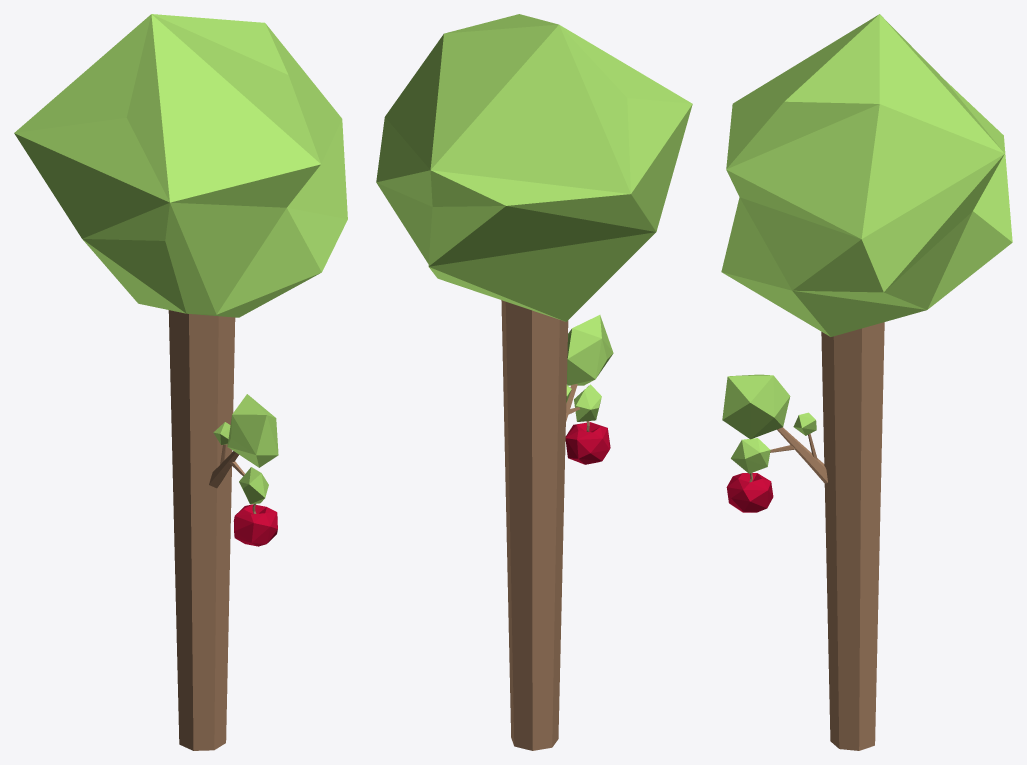
Rendered from tree.fbx.
3 renders of one model, left to right at view 1: azimuth 30°, elevation 25°; view 2: azimuth 150°, elevation 25°; view 3: azimuth 270°, elevation 25°, orthographic. The views are drawn at different scales.
Parts seen in each view (by area): view 1: LeafColor-material.003, BaseColor-material.009, LeafColor-material.004, Material_002-material; view 2: LeafColor-material.003, BaseColor-material.009, LeafColor-material.004, Material_002-material; view 3: LeafColor-material.003, BaseColor-material.009, LeafColor-material.004, Material_002-material.
Part boxes in pixels (left/top/right/bottom): LeafColor-material.003: left=14, top=14, right=347, bottom=317; BaseColor-material.009: left=168, top=310, right=244, bottom=750; LeafColor-material.004: left=213, top=394, right=278, bottom=504; Material_002-material: left=233, top=504, right=277, bottom=546; LeafColor-material.003: left=376, top=14, right=692, bottom=321; BaseColor-material.009: left=501, top=300, right=579, bottom=750; LeafColor-material.004: left=566, top=315, right=613, bottom=421; Material_002-material: left=565, top=422, right=610, bottom=464; LeafColor-material.003: left=721, top=14, right=1012, bottom=336; BaseColor-material.009: left=770, top=322, right=884, bottom=750; LeafColor-material.004: left=722, top=374, right=816, bottom=473; Material_002-material: left=726, top=473, right=773, bottom=512.
Size of the model in its own units: 515 by 1252 by 466.
